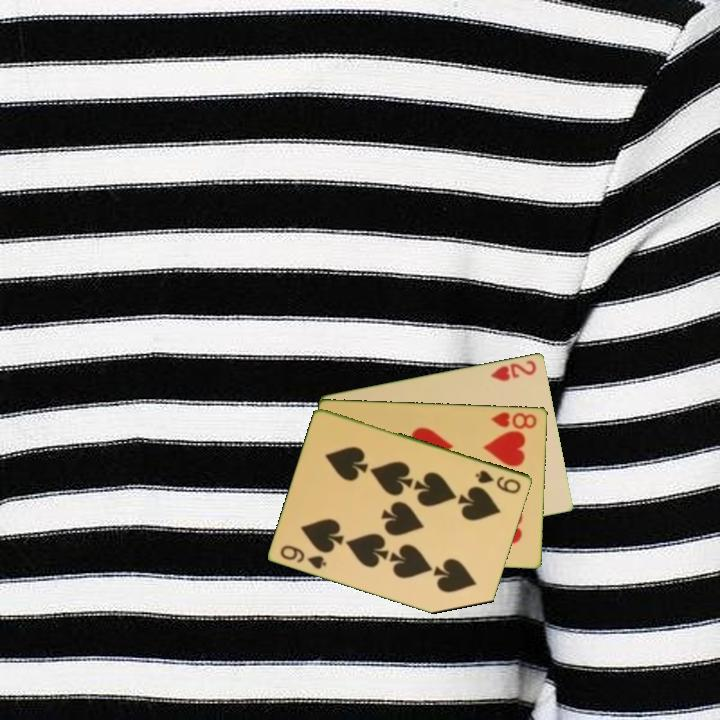2h: (487, 356, 539, 384)
8h: (488, 408, 540, 432)
9s: (277, 541, 330, 572), (472, 466, 524, 496)
